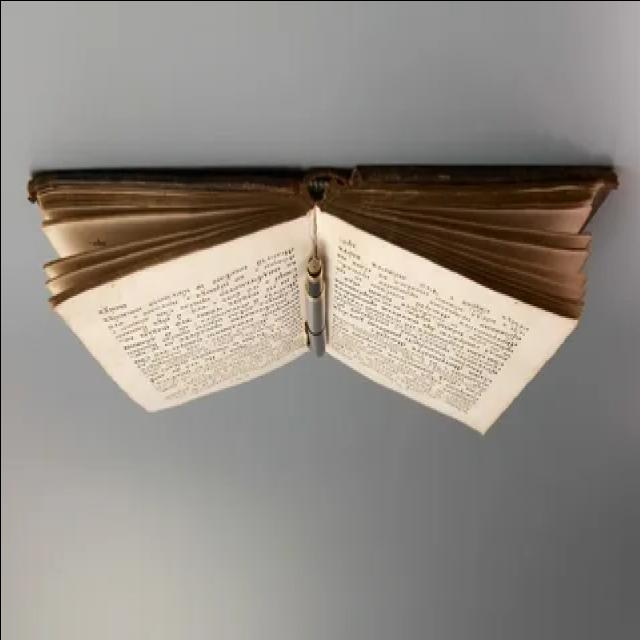book: (16, 126, 624, 458)
